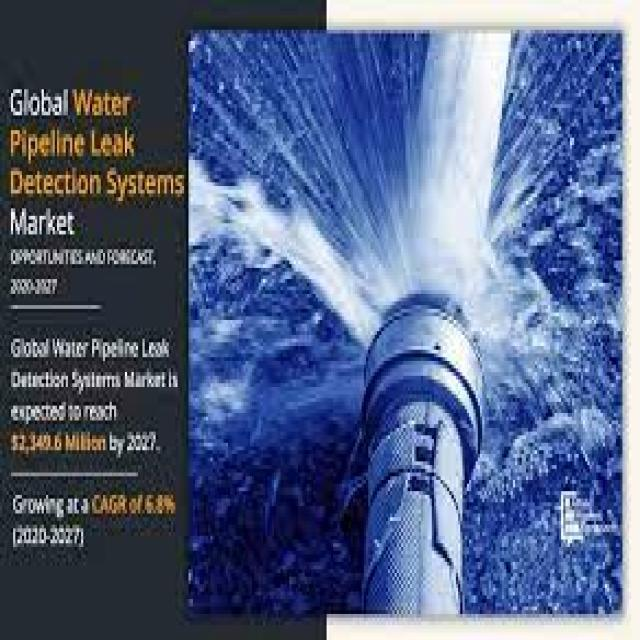corrosion: (326, 261, 506, 436)
